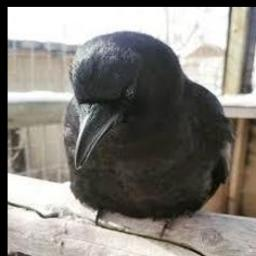Crow: (63, 31, 235, 240)
